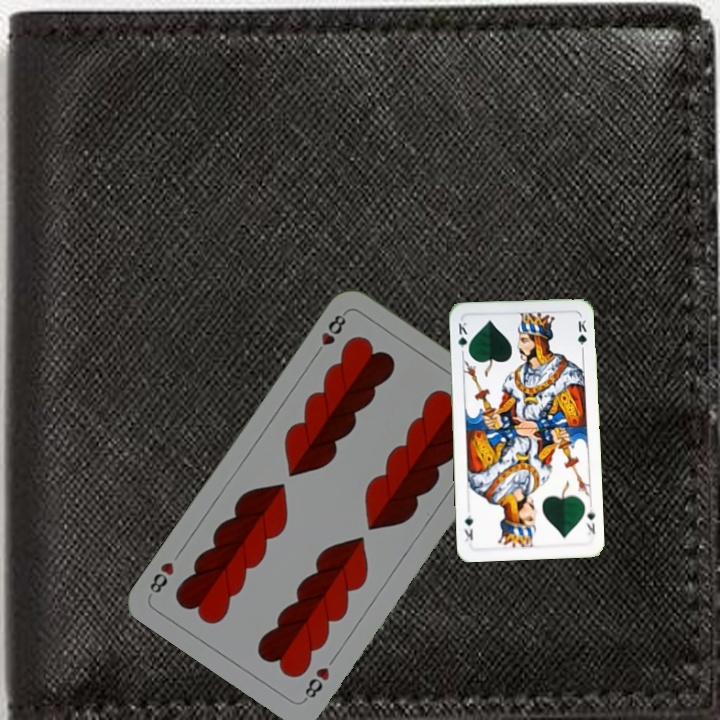GK: (454, 318, 471, 357), (581, 505, 598, 538)
H8: (310, 308, 350, 360), (300, 663, 333, 704)
